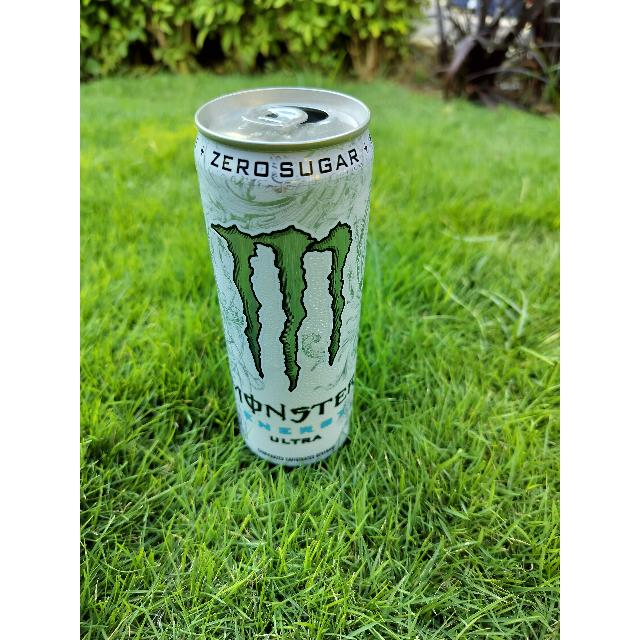White Monster: (191, 89, 379, 478)
